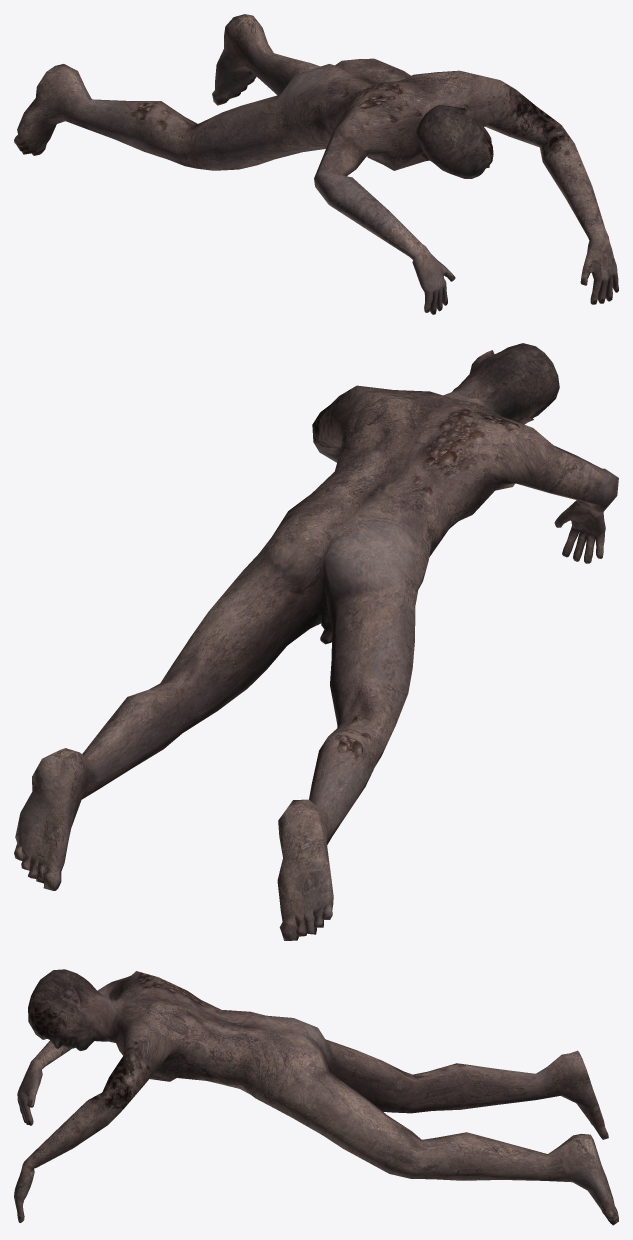
File: corpse_male_plague_fountain.dae
The picture shows the model from 3 angles, top to bottom: view 1: azimuth 30°, elevation 25°; view 2: azimuth 150°, elevation 25°; view 3: azimuth 270°, elevation 25°; orthographic projection. The views are drawn at different scales.
Visible parts, largest first — view 1: polySurface6; view 2: polySurface6; view 3: polySurface6.
Part boxes in pixels (x1,y1,x2,y2): polySurface6: (14,14,618,314); polySurface6: (14,343,618,940); polySurface6: (14,969,618,1225).
Size of the model in its own units: 0.9417 by 0.745 by 1.89.
Materials: 1 (1 with a texture image).
